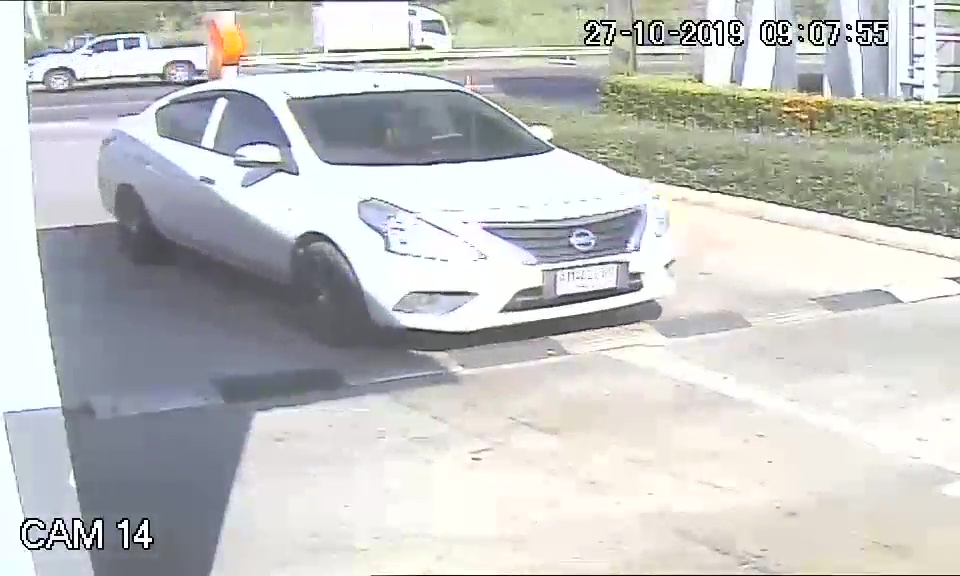sedan: (92, 67, 673, 338)
